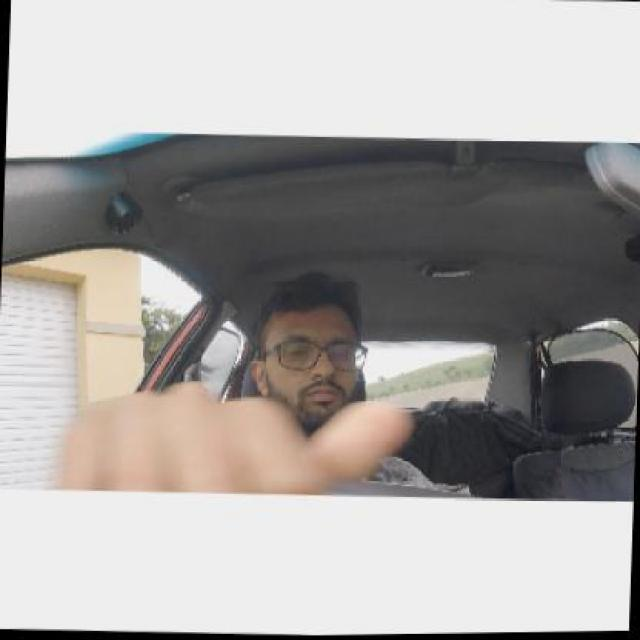drowsy: (252, 269, 376, 434)
